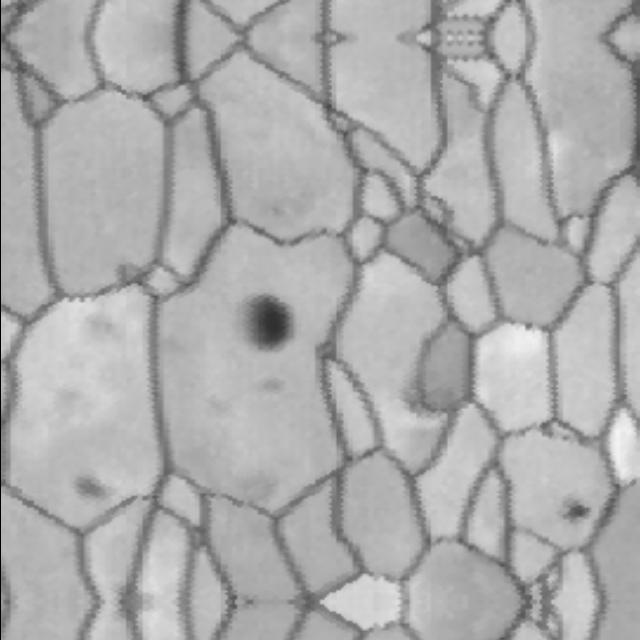good_void: (222, 277, 299, 359), (550, 479, 604, 533), (66, 469, 118, 511), (252, 373, 293, 398), (515, 309, 539, 341), (530, 417, 558, 443)
